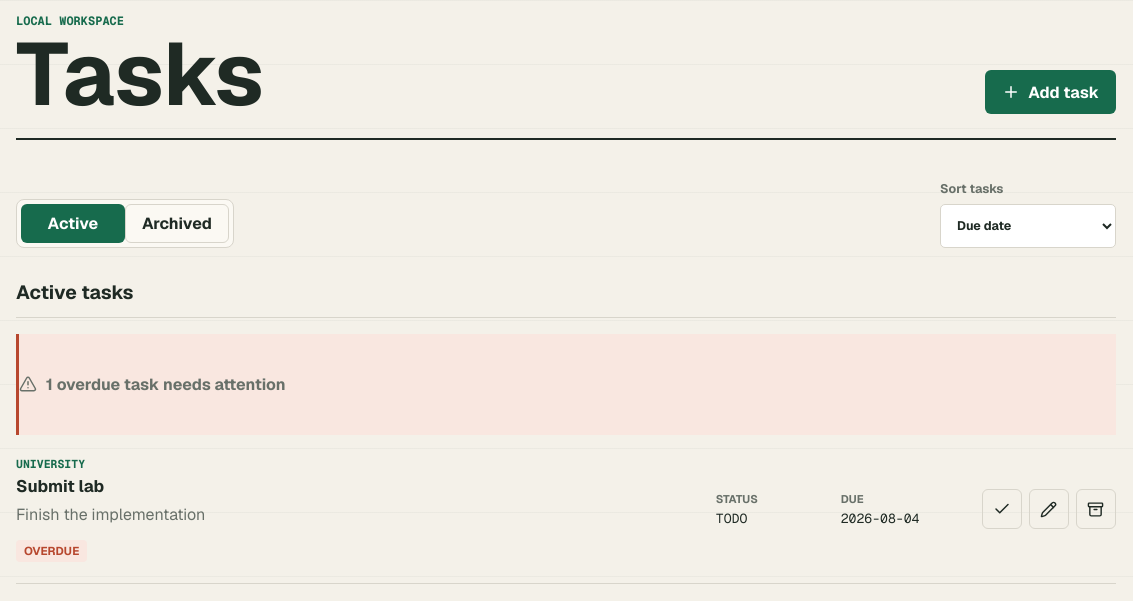
Test: AppShell › alerts about overdue work and lets an unfinished task be completed directly
expect the message reads "1 overdue task needs attention": met, box [16, 334, 1116, 435]
Click the button named "Mark Submit lab complete" at (1002, 509), box [982, 489, 1022, 529]
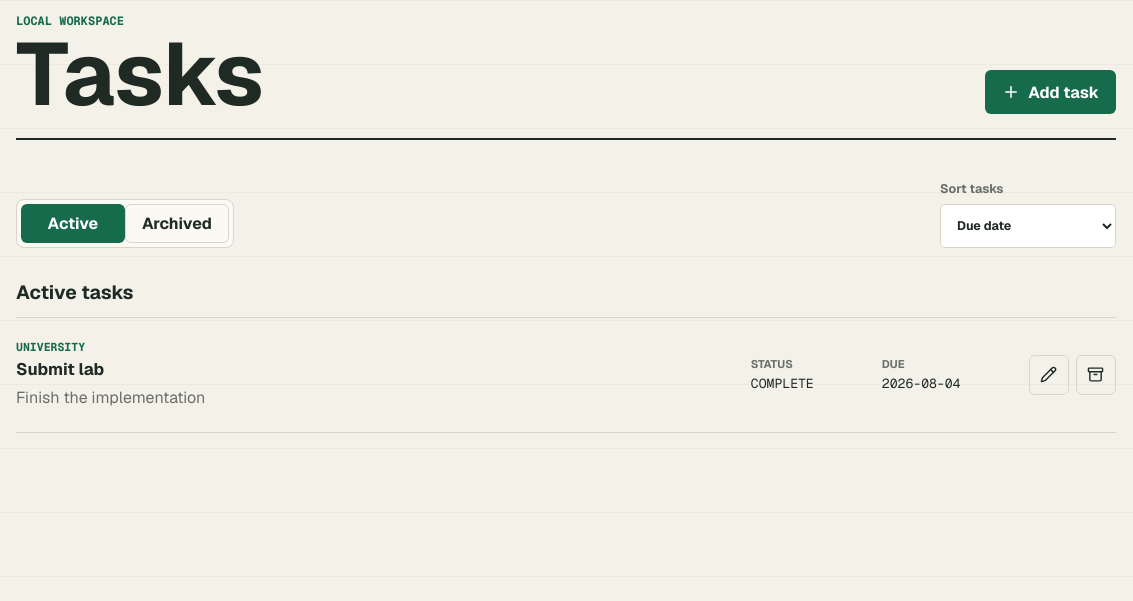
expect the text "COMPLETE" is shown: met, box [751, 375, 814, 392]
expect the text "overdue" is gone: met
